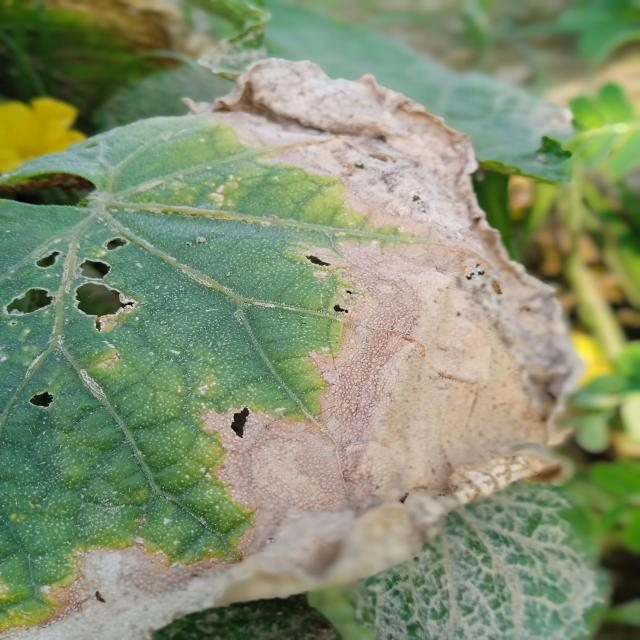cucumber_gummy: (0, 42, 609, 640)
